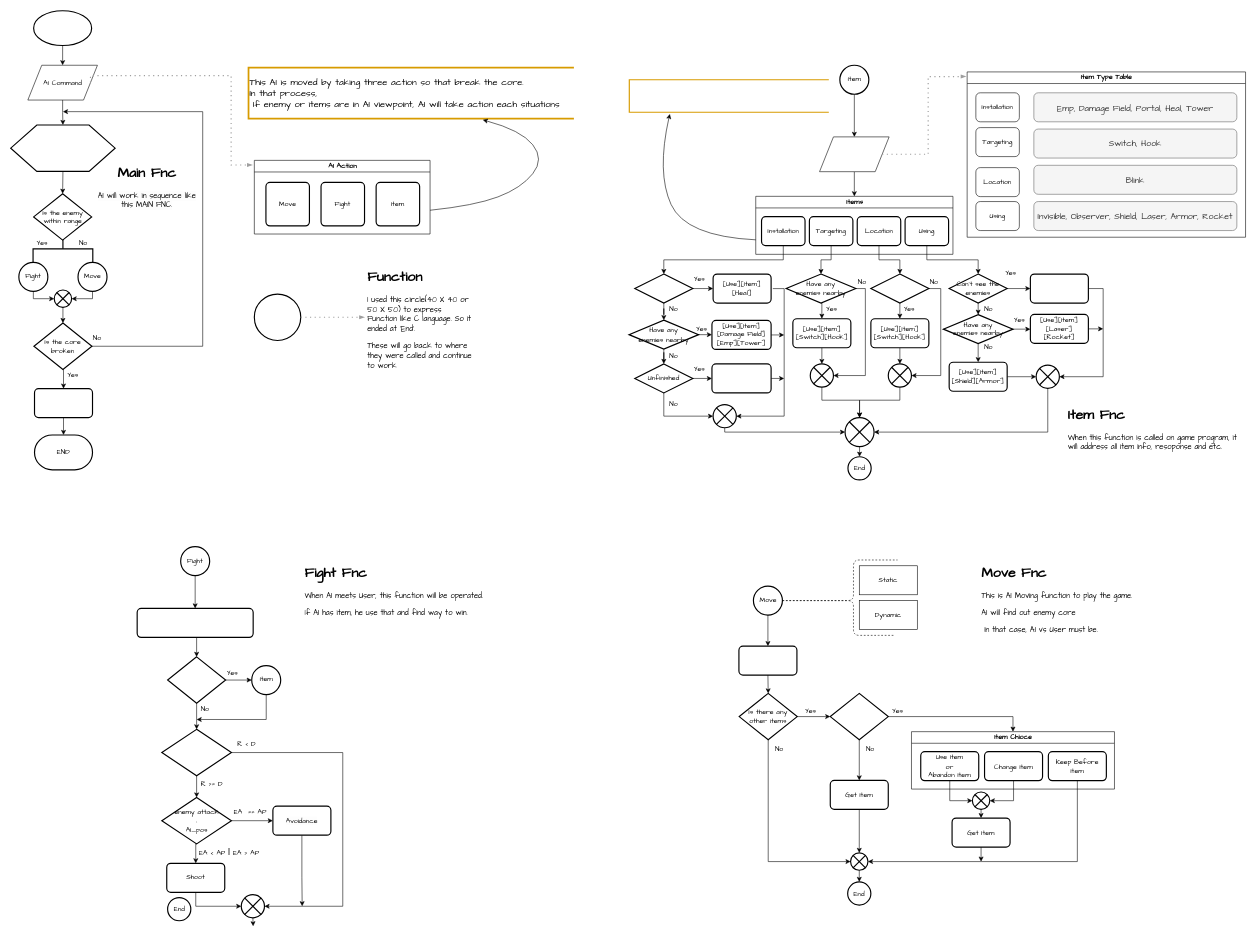
The diagram is 1258 pixels wide and 941 high, and some of its shapes have lost their labels. The centre of each missing label's shape, as x and y in pixels:
"[Use][Item] [Invisible][Observer]" belongs at [1059,288].
"[Use][Item] [Portal]" belongs at [741,378].
"Are ally have low HP" belongs at [663,288].
"Call [Distance_from_the_enemy]" belongs at [194,623].
"Call [Game_End]" belongs at [63,403].
"Call [Move_to_Core]" belongs at [767,660].
"Game Start" belongs at [62,28].
"Have an item" belongs at [196,680].
"Have any other item" belongs at [859,716].
"Range : AI Range Distance : Distance from the enemies" belongs at [62,148].
"Range : Distance" belongs at [196,752].
"These are the types of items that AI will have and functions according to each." belongs at [728,96].
"Unfinshed" belongs at [899,288].
"What Kind of Item" belongs at [854,154].
